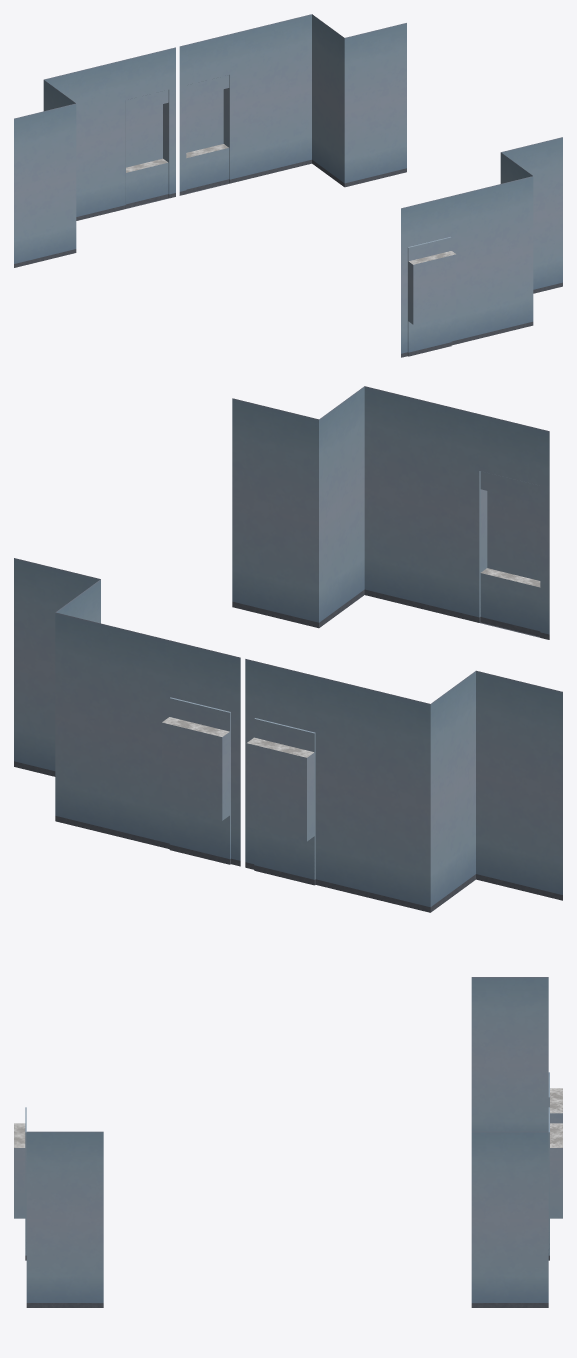
File: PatientRoomUpdatedFace.fbx
3 renders of one model, top to bottom at view 1: azimuth 30°, elevation 25°; view 2: azimuth 150°, elevation 25°; view 3: azimuth 270°, elevation 25°, orthographic. The views are drawn at different scales.
Parts seen in each view (by area): view 1: pCube213, pCube214, pCube212; view 2: pCube212, pCube214, pCube213; view 3: pCube213, pCube214, pCube212.
Boxes of the visible parts, <box> form: pCube213: <box>179,14,406,195</box>; pCube214: <box>401,137,562,357</box>; pCube212: <box>14,47,175,267</box>; pCube212: <box>245,659,562,912</box>; pCube214: <box>232,386,549,639</box>; pCube213: <box>14,558,240,866</box>; pCube213: <box>471,1107,562,1307</box>; pCube214: <box>14,1107,103,1307</box>; pCube212: <box>471,977,562,1131</box>.
Bounding box in the file's own units: 1100 × 400 × 1129.
1 material, 1 textured.
